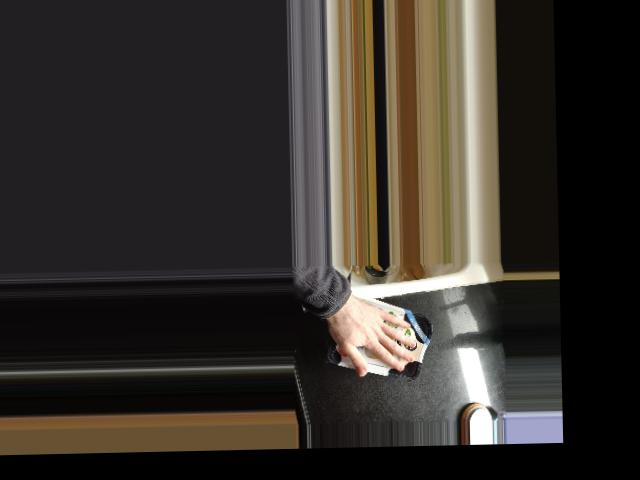cheese: (324, 287, 435, 384)
